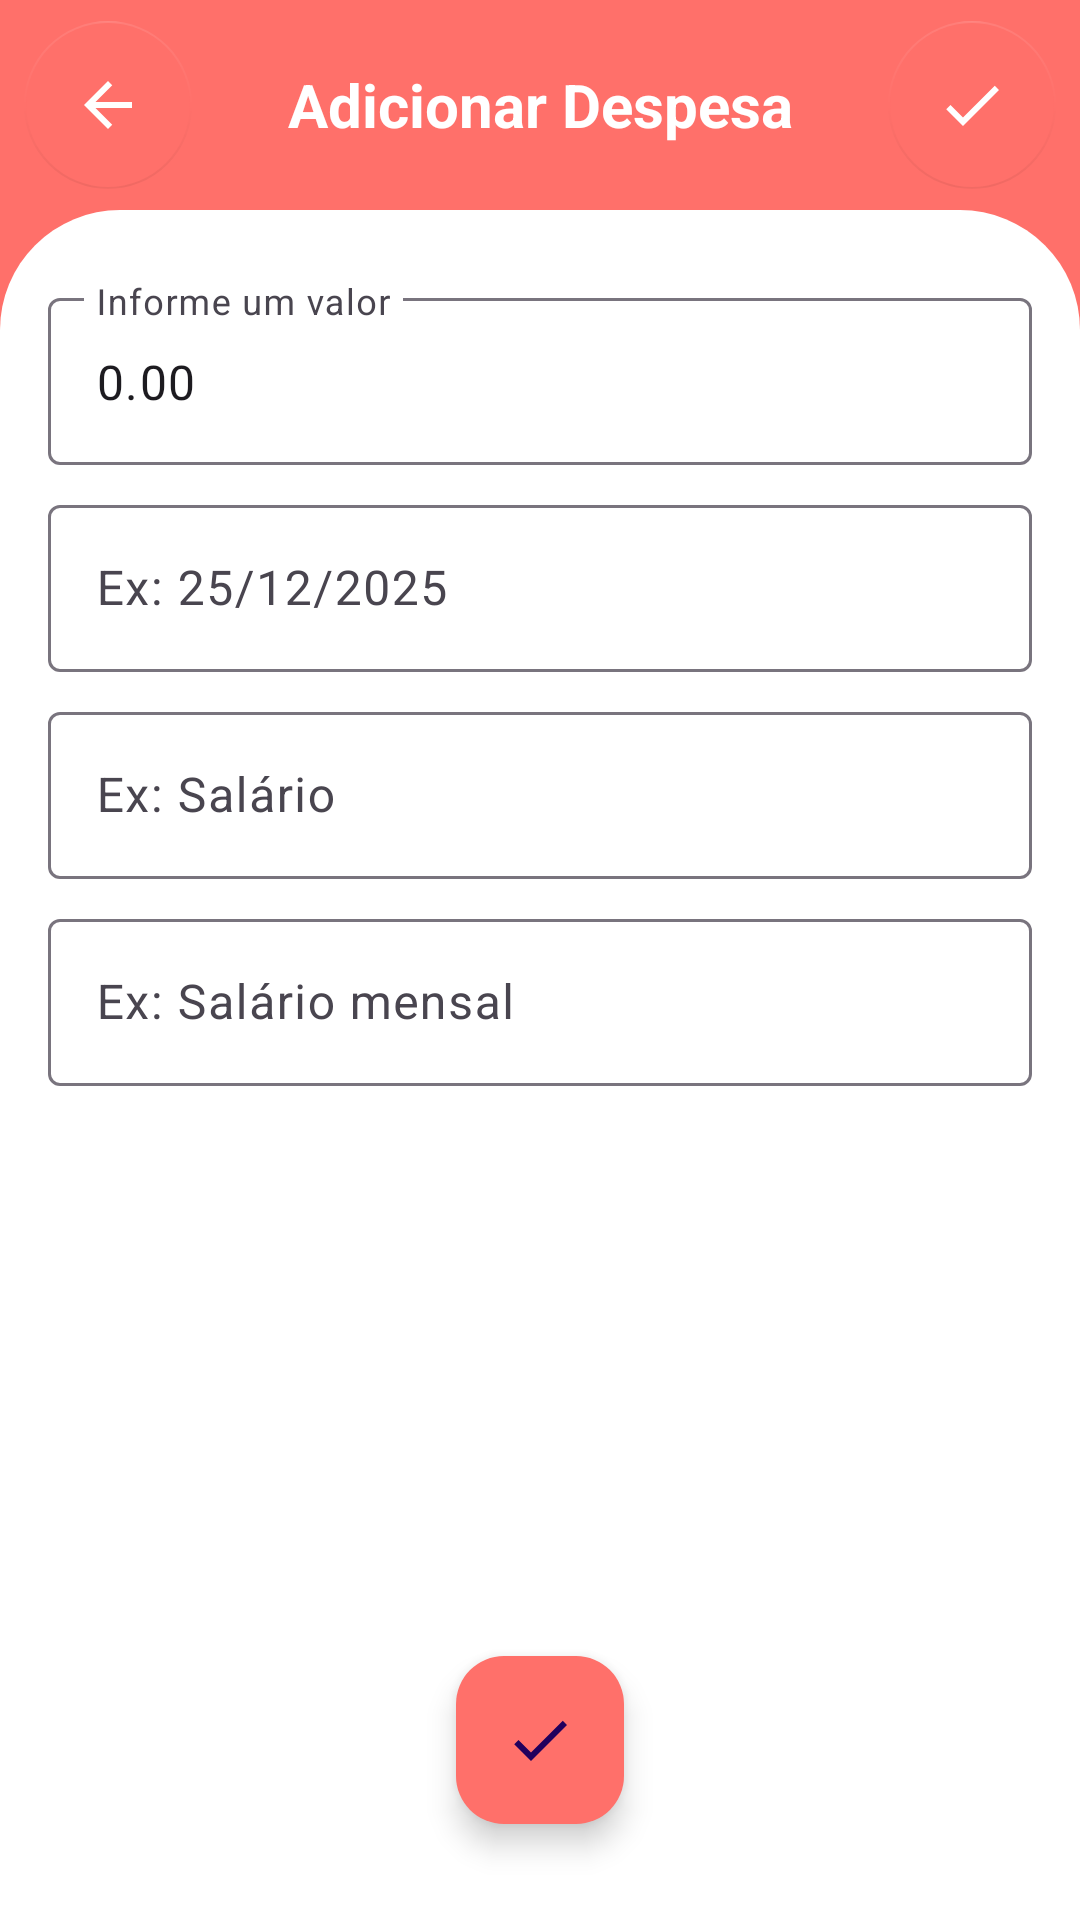

Point at icon controls on the screen. Image size 1080×1920, points as [x,y].
arrow back: [108,105]
confirmar branco: [972,106], [540,1740]
